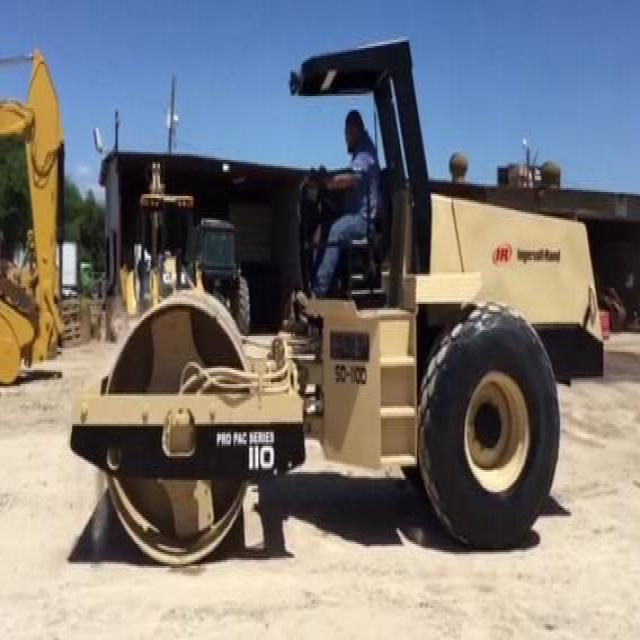Excavator: (0, 64, 63, 386)
Roller: (72, 36, 603, 562)
